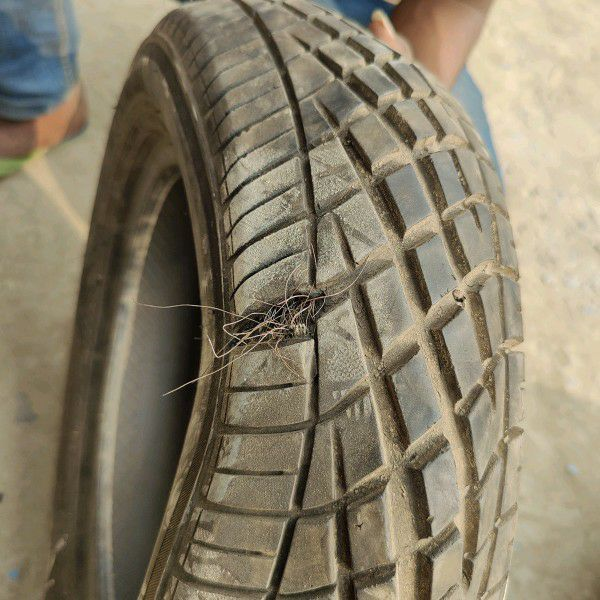bead_damage: (222, 283, 347, 356)
